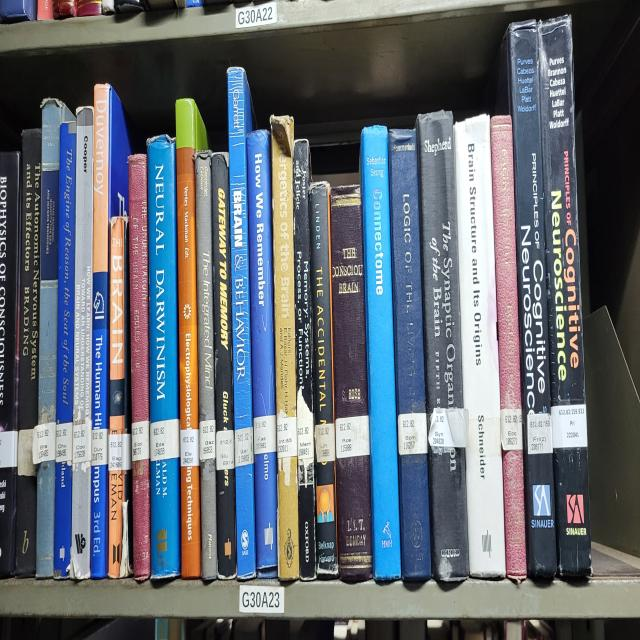Book: (499, 22, 558, 579), (539, 16, 591, 576), (416, 111, 469, 582), (454, 114, 506, 576), (32, 97, 74, 576), (389, 130, 431, 582), (360, 124, 401, 582), (490, 116, 526, 582), (330, 184, 372, 582), (176, 100, 208, 579), (228, 68, 256, 579), (148, 135, 180, 579), (270, 116, 299, 582), (248, 130, 278, 579), (309, 181, 339, 576), (15, 130, 41, 576), (70, 106, 94, 579), (211, 154, 236, 579), (292, 138, 316, 579), (54, 122, 76, 579), (195, 152, 218, 582), (129, 154, 151, 582), (0, 152, 20, 576), (109, 216, 126, 579)
Label: (551, 403, 588, 449), (428, 409, 469, 449), (335, 414, 370, 457), (469, 414, 501, 457), (398, 411, 428, 455), (150, 419, 180, 460), (298, 392, 314, 468), (32, 422, 56, 465), (528, 414, 552, 455), (500, 409, 522, 452), (254, 414, 276, 455), (18, 427, 36, 476), (72, 419, 91, 465), (278, 414, 298, 457), (315, 422, 335, 463), (235, 427, 254, 468), (216, 430, 235, 471), (180, 427, 199, 468), (131, 419, 150, 460), (55, 422, 72, 465), (199, 419, 216, 460), (0, 430, 18, 468), (91, 427, 108, 465), (109, 433, 124, 471)
